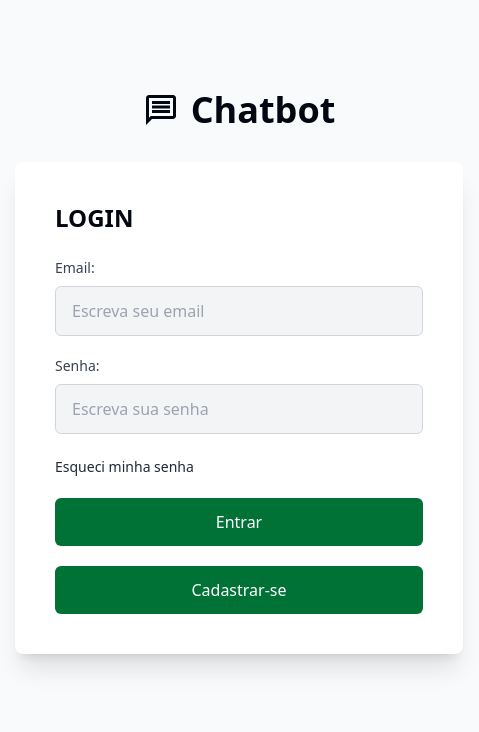
Test case: autenticacao e rotas › permite navegar entre login, cadastro e reset de senha
Click the button with test id "signup-link" at (239, 590), box [55,566,423,614]
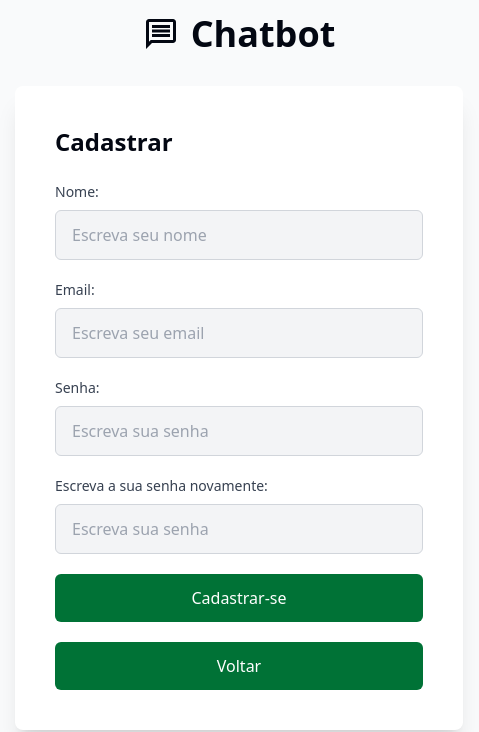
Expected: the form with test id "signup-form" is shown, [55,126,423,690]
Click the button with test id "signup-back" at (239, 666), box [55,642,423,690]
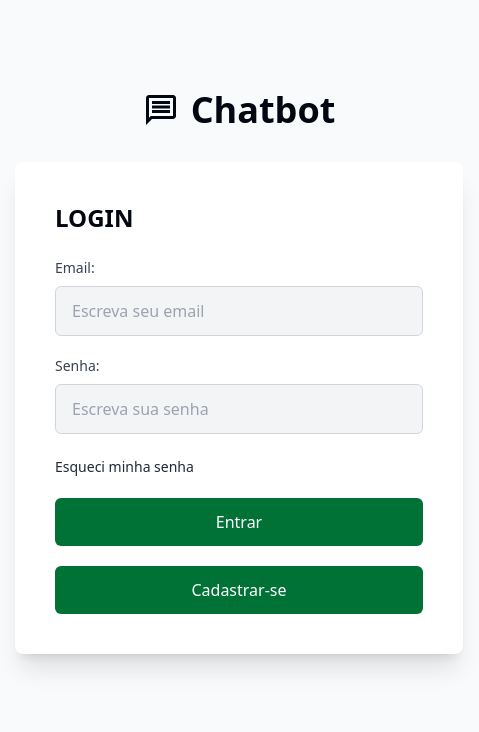
Click the button with test id "forgot-password-link" at (125, 467), box [55,457,194,477]
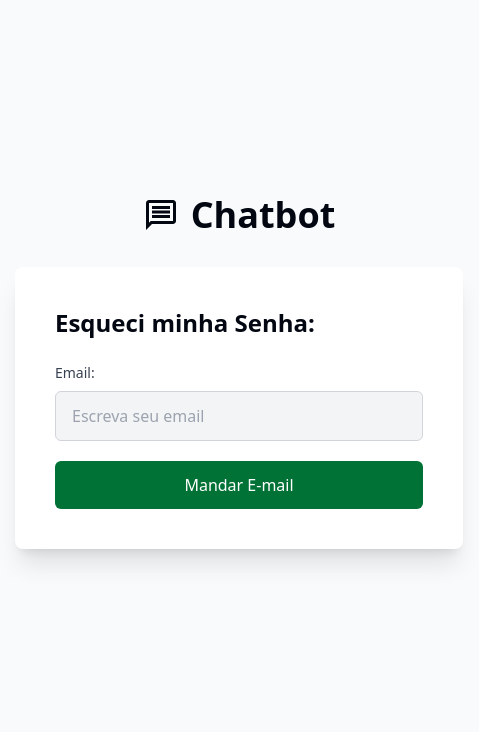
Expected: the form with test id "reset-email-form" is shown, [55,307,423,509]
